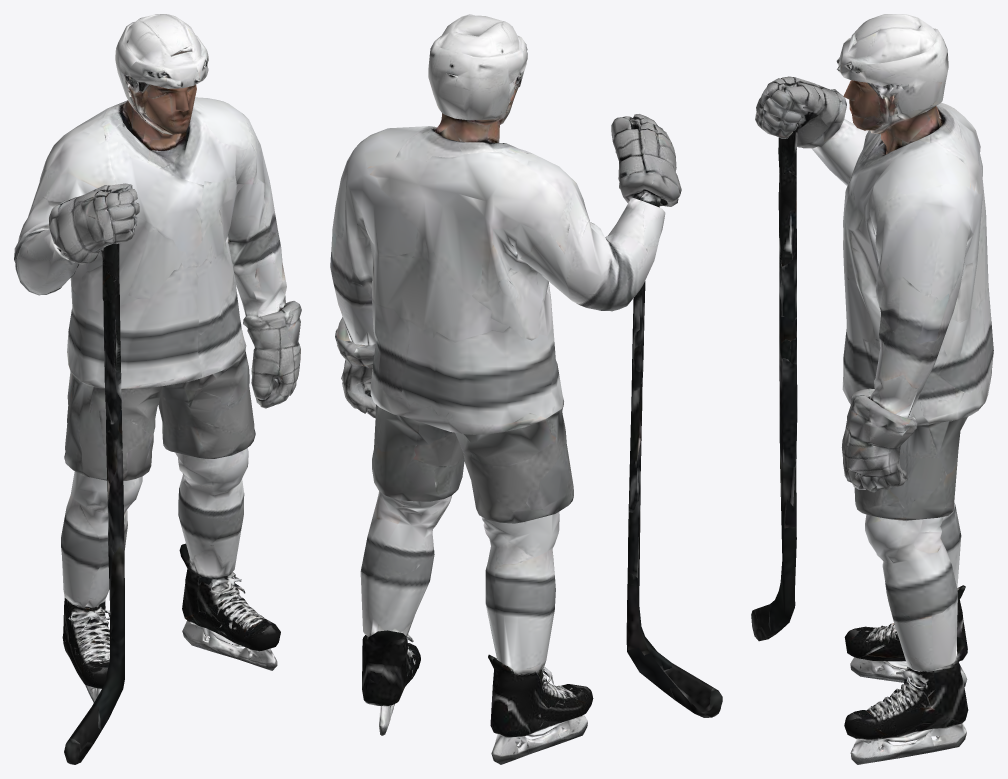
Rendered from standing_low.glb.
The picture shows the model from 3 angles, left to right: view 1: azimuth 30°, elevation 25°; view 2: azimuth 150°, elevation 25°; view 3: azimuth 270°, elevation 25°; orthographic projection. The views are drawn at different scales.
Size of the model in its own units: 0.8909 by 1.9 by 0.6002.
Materials: 1 (1 with a texture image).
